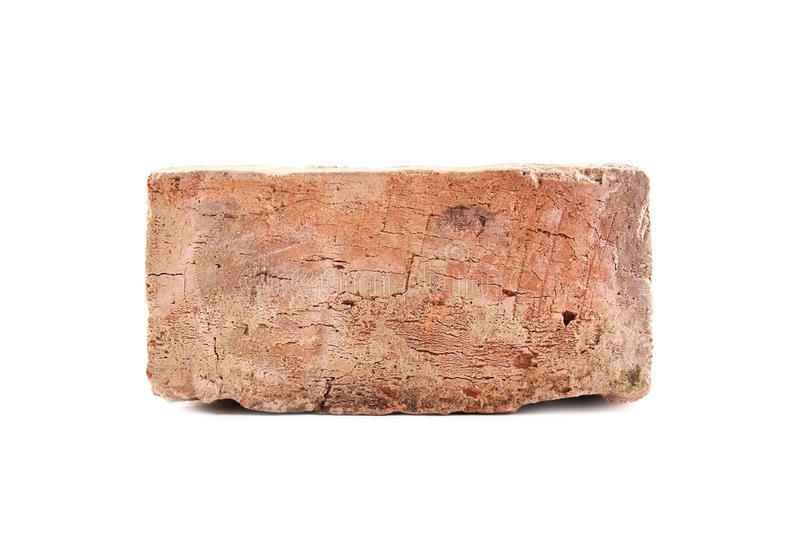brick: (147, 169, 650, 400)
